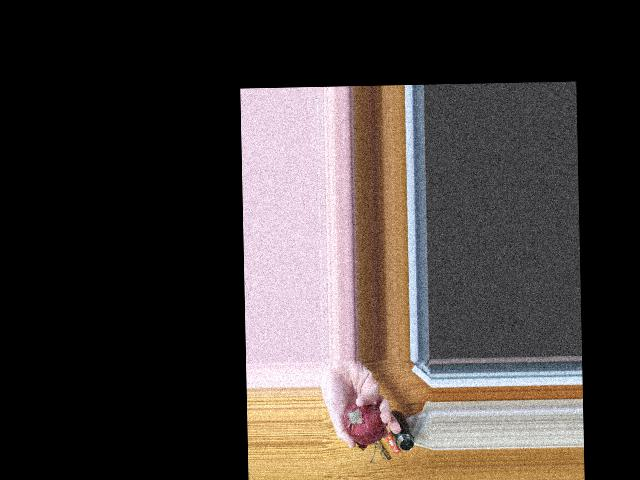onion: (344, 401, 382, 444)
